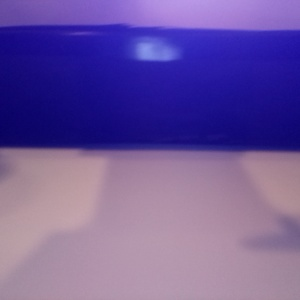dead_ball: (41, 63, 188, 216)
